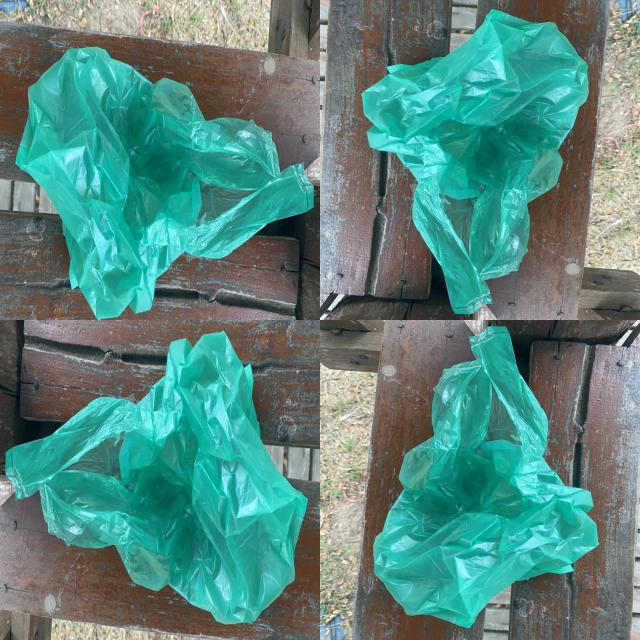Single-layer Plastic: (6, 332, 306, 624), (16, 48, 312, 319), (362, 10, 589, 314), (374, 328, 599, 628)
